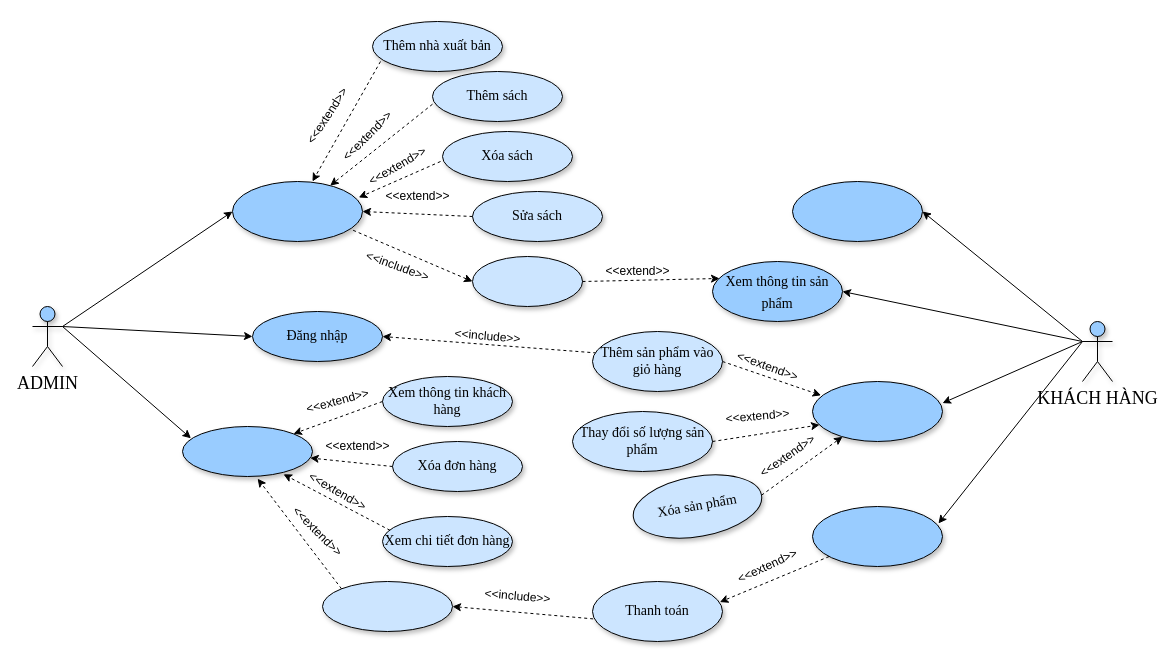
This 1175x666 diagram has some shape labels left out. The centre of each missing label's shape, as x and y in pixels:
Giao hàng: point 388,607
Giỏ hàng: point 878,412
Mua hàng: point 878,538
Quản lý kho hàng: point 298,212
Quản lý đơn hàng: point 248,453
Tìm kiếm: point 528,283
Đăng kí: point 858,212
